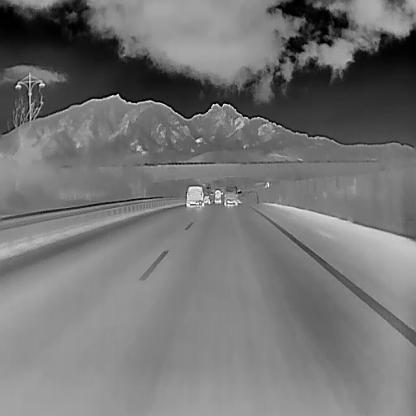car: (185, 184, 204, 207), (223, 184, 237, 206), (213, 188, 222, 204), (202, 190, 211, 203)
